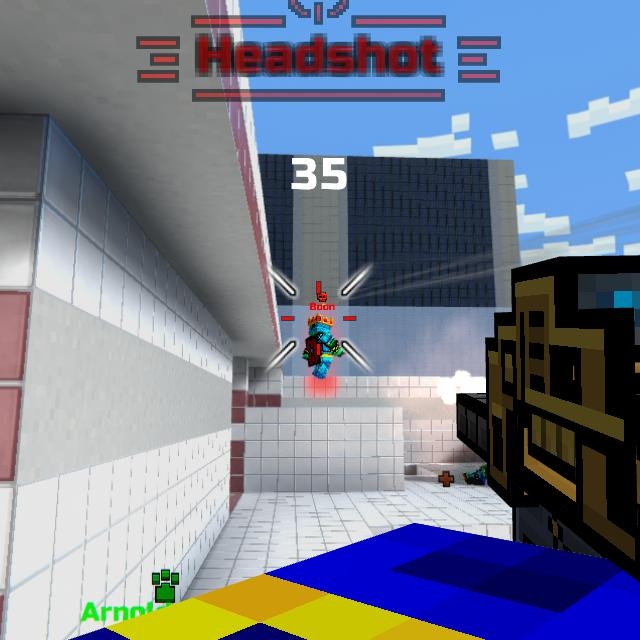Enemy: (302, 312, 344, 379)
